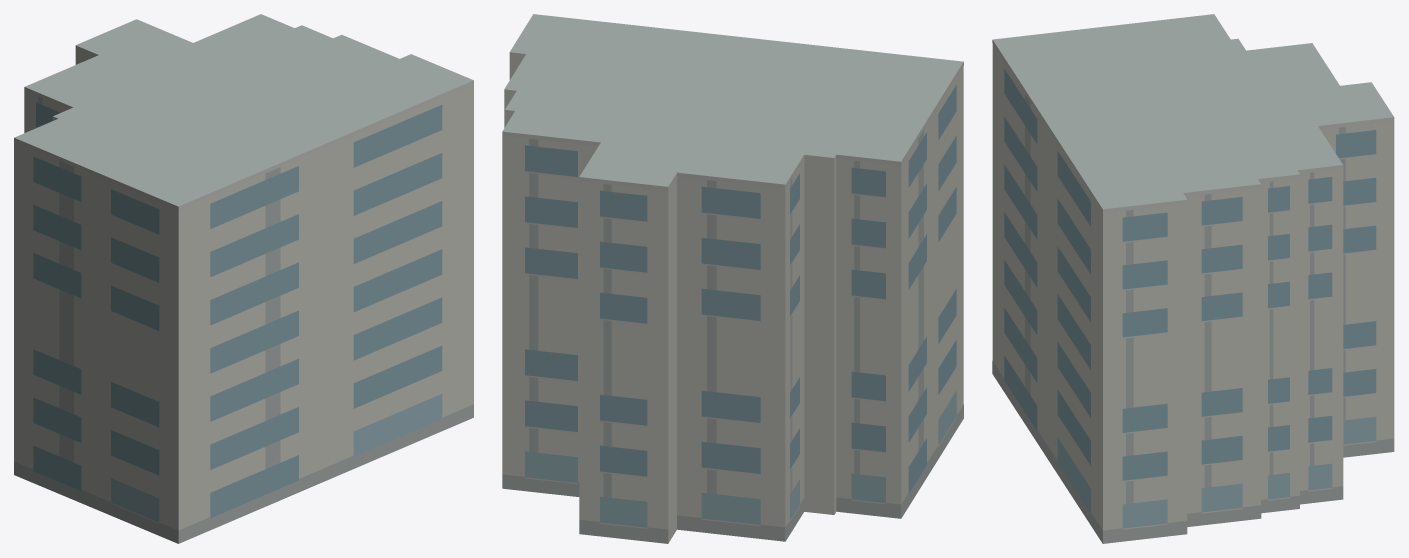
The model's file is survey-upis-32702116.glb.
3 views of the same model, side by side, from view 1: azimuth 30°, elevation 25°; view 2: azimuth 150°, elevation 25°; view 3: azimuth 270°, elevation 25° (orthographic). The views are drawn at different scales.
Parts seen in each view (by area): view 1: survey-upis-32702116.tmp; view 2: survey-upis-32702116.tmp; view 3: survey-upis-32702116.tmp.
Part boxes in pixels (<box>): survey-upis-32702116.tmp: <box>14,14,473,543</box>; survey-upis-32702116.tmp: <box>502,14,963,543</box>; survey-upis-32702116.tmp: <box>992,14,1394,543</box>.
Bounding box in the file's own units: 25.81 × 20.6 × 22.44.
